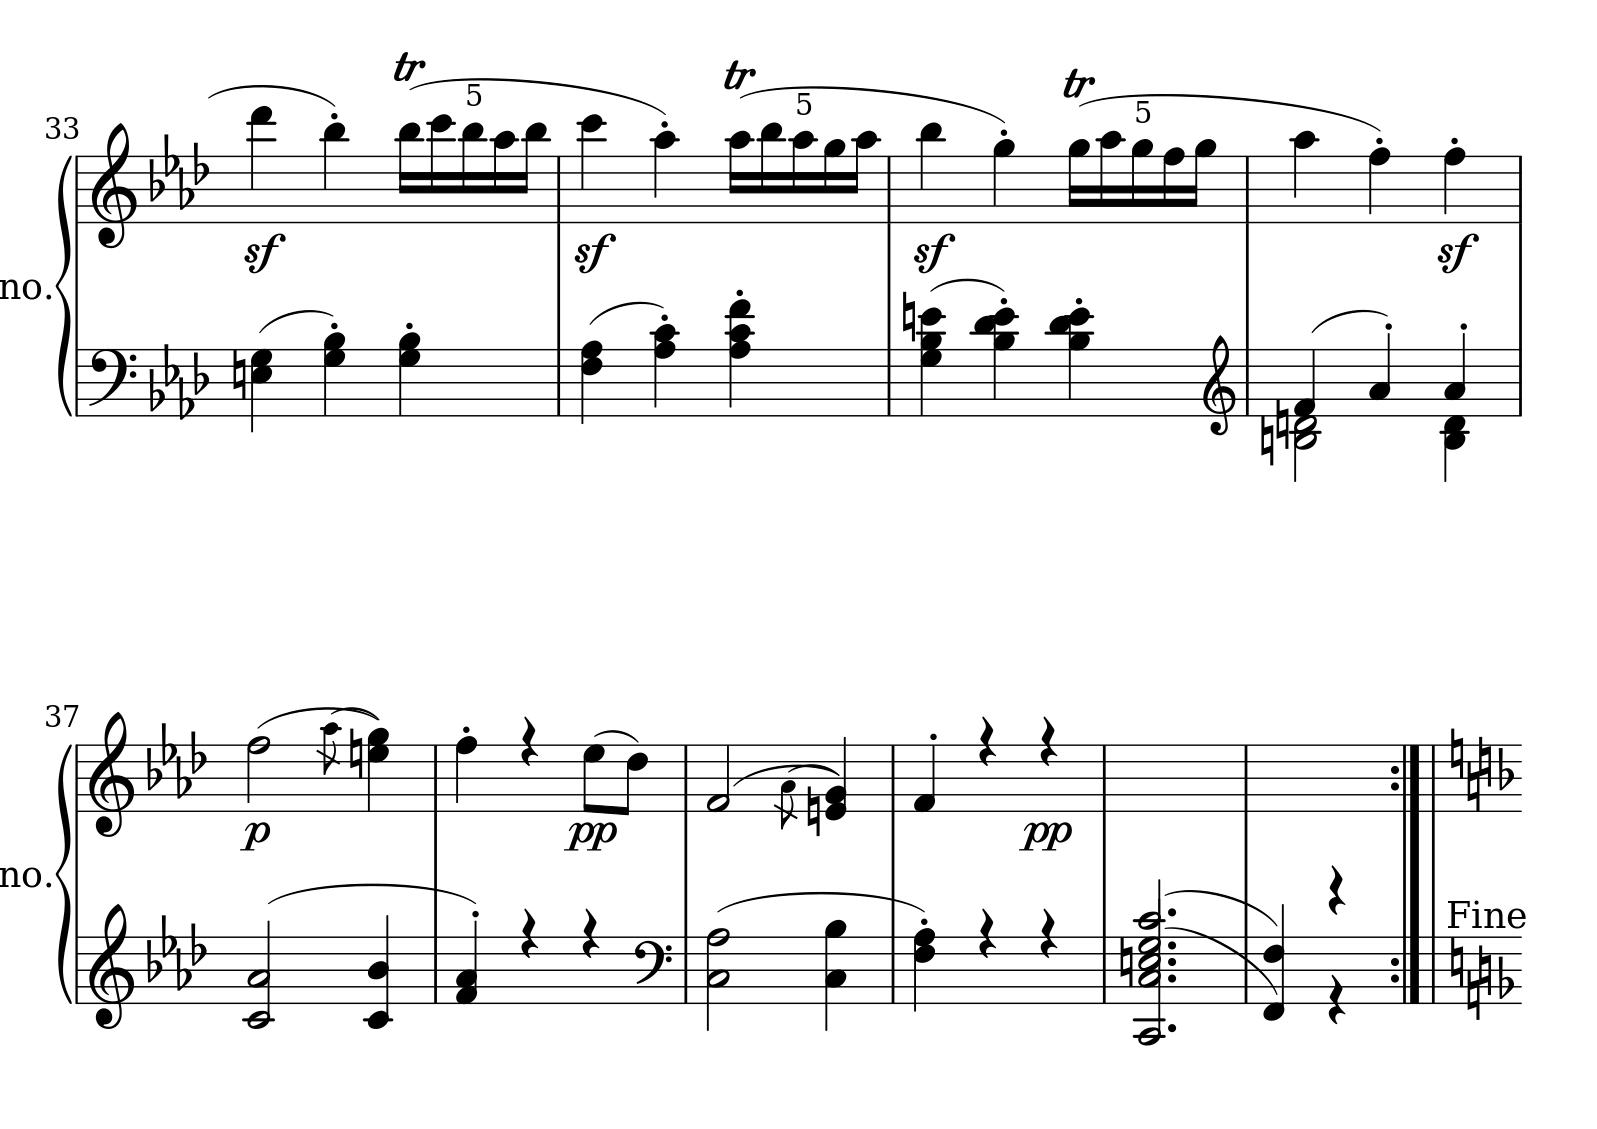16_10: (848, 130, 881, 224), (725, 130, 753, 225), (791, 130, 817, 224), (1098, 130, 1125, 224), (491, 130, 517, 224)
16_11: (517, 120, 550, 224), (758, 122, 784, 224), (396, 121, 422, 225), (459, 122, 485, 224)
16_12: (428, 114, 455, 225)
16_8: (1161, 145, 1185, 225)
16_9: (1186, 137, 1217, 225), (1065, 136, 1091, 225), (1130, 136, 1153, 226), (822, 137, 846, 225)
2_-2_3: (243, 923, 277, 1032)
2_1: (705, 742, 733, 814)
2_3_8: (705, 926, 731, 1034)
2_8: (246, 734, 272, 814)
3: (44, 703, 62, 729), (44, 114, 61, 141), (62, 114, 79, 141)
4_-1_4: (1261, 901, 1288, 1021)
4_-2_4: (364, 916, 395, 1031)
4_0_2: (822, 736, 849, 821)
4_1: (912, 743, 938, 814)
4_10: (651, 130, 679, 225), (1292, 130, 1318, 224)
4_11: (916, 120, 945, 224), (321, 121, 348, 225)
4_12: (577, 111, 607, 224)
4_13: (248, 104, 275, 224)
4_1_3: (453, 919, 480, 1007)
4_3: (1369, 332, 1393, 417), (1444, 332, 1467, 414)
4_3_9: (824, 918, 848, 1030)
4_5_7: (250, 346, 274, 433)
4_6_8: (578, 340, 605, 426), (912, 925, 937, 1009)
4_7_9: (323, 330, 347, 418), (397, 329, 422, 417)
4_8: (453, 736, 479, 814), (1442, 145, 1466, 225), (1367, 145, 1391, 225)
4_8_10: (648, 323, 681, 417)
4_9: (991, 136, 1017, 224)
4_th: (968, 304, 1023, 417), (1043, 308, 1097, 418), (723, 294, 755, 418), (918, 308, 948, 415)
5: (793, 90, 815, 119), (1131, 98, 1153, 126), (464, 81, 484, 108)
7: (62, 703, 79, 728)
8_6: (618, 742, 649, 816)
8_7: (580, 740, 606, 814)
A_F: (147, 341, 210, 420), (145, 720, 208, 799), (145, 912, 206, 991), (148, 132, 209, 210)
Brace: (54, 737, 75, 1006), (55, 147, 75, 422)
Fclef: (87, 346, 136, 418), (632, 934, 673, 1006)
Flat: (1497, 952, 1514, 1002), (1498, 745, 1513, 792)
Gclef: (87, 902, 134, 1030), (88, 710, 134, 837), (90, 121, 136, 248), (1201, 334, 1237, 436)
Natural: (901, 288, 918, 343), (1274, 397, 1292, 452), (347, 727, 364, 782), (230, 349, 247, 403), (805, 784, 822, 838), (1118, 934, 1134, 987), (1260, 411, 1274, 467), (1478, 943, 1492, 998), (1450, 726, 1464, 780), (1466, 969, 1480, 1023), (1478, 736, 1492, 788), (1450, 935, 1464, 987), (1466, 764, 1480, 814)
Rests4: (518, 714, 540, 769), (976, 714, 998, 769), (1037, 714, 1059, 769), (518, 905, 540, 960), (976, 905, 998, 960), (1325, 973, 1347, 1028), (580, 907, 601, 960), (1039, 907, 1059, 960), (1327, 863, 1347, 916)
RightRepeatSign: (1388, 743, 1423, 811), (1388, 935, 1423, 1003)
Single_barline: (1094, 744, 1113, 810), (883, 743, 902, 811), (1237, 743, 1255, 810), (1423, 935, 1441, 1004), (1096, 935, 1113, 1003), (1239, 155, 1256, 222), (1511, 155, 1529, 222), (1237, 935, 1254, 1002), (1511, 349, 1529, 415), (1423, 745, 1441, 811), (428, 936, 445, 1002), (881, 347, 897, 415), (678, 744, 694, 813), (678, 934, 694, 1002), (881, 155, 897, 222), (428, 744, 444, 811), (551, 156, 567, 222), (71, 744, 86, 813), (886, 935, 901, 1003), (1240, 348, 1255, 415), (72, 155, 86, 224), (552, 347, 566, 415), (72, 935, 84, 1003), (72, 348, 84, 414)
Slur: (1078, 92, 1386, 136), (736, 86, 1014, 128), (407, 78, 671, 116), (263, 881, 477, 907), (714, 893, 926, 913), (1164, 891, 1274, 925), (203, 84, 338, 108), (736, 761, 837, 787), (257, 308, 335, 334), (1310, 308, 1391, 332), (585, 301, 665, 325), (927, 277, 1004, 294), (332, 706, 382, 722), (594, 727, 640, 743)
Trill: (391, 46, 425, 82), (721, 56, 755, 90), (1061, 64, 1095, 98)
dot: (1164, 905, 1179, 920), (1166, 1021, 1179, 1035), (1166, 938, 1179, 951), (1166, 971, 1179, 984), (1166, 955, 1179, 966)
p: (239, 821, 272, 854)
pp: (1017, 819, 1072, 855), (562, 820, 616, 855)
sf: (242, 233, 285, 275), (912, 232, 954, 274), (1434, 232, 1477, 274), (573, 232, 615, 274)
